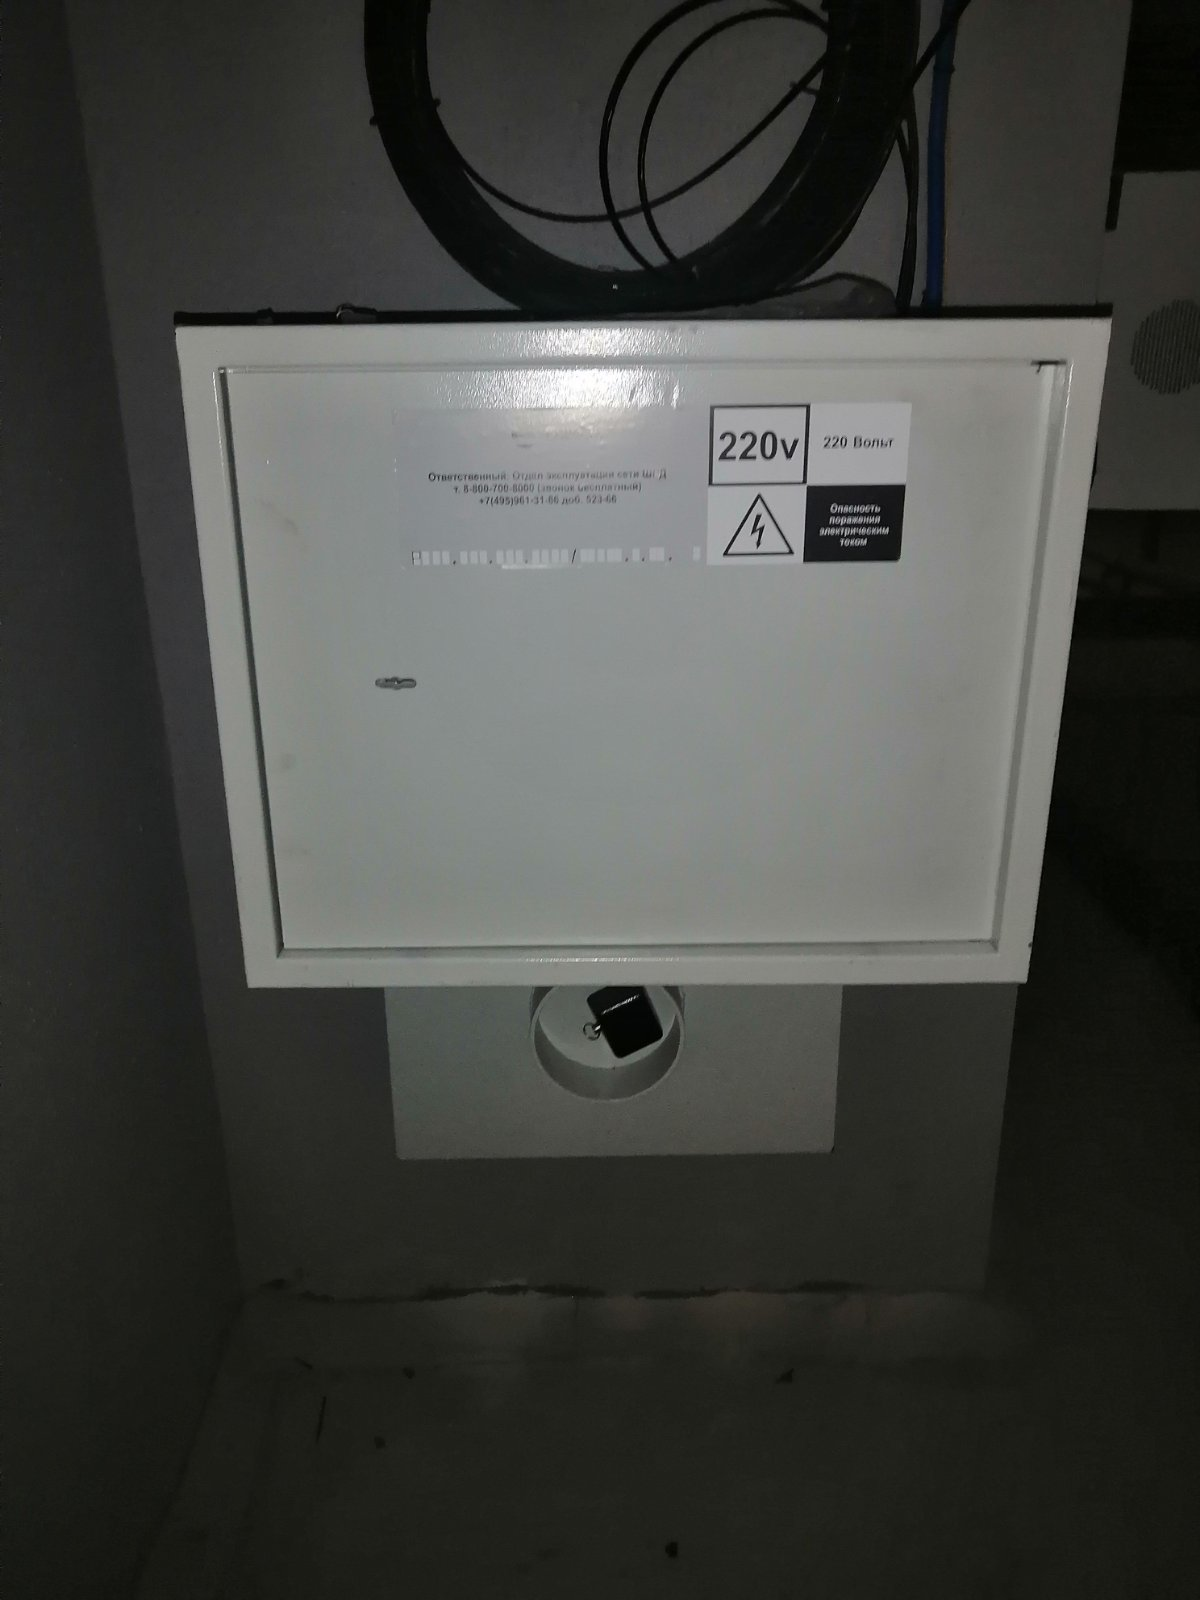shta-3: (376, 970, 867, 1165)
shta-9m: (163, 299, 1127, 1000)
